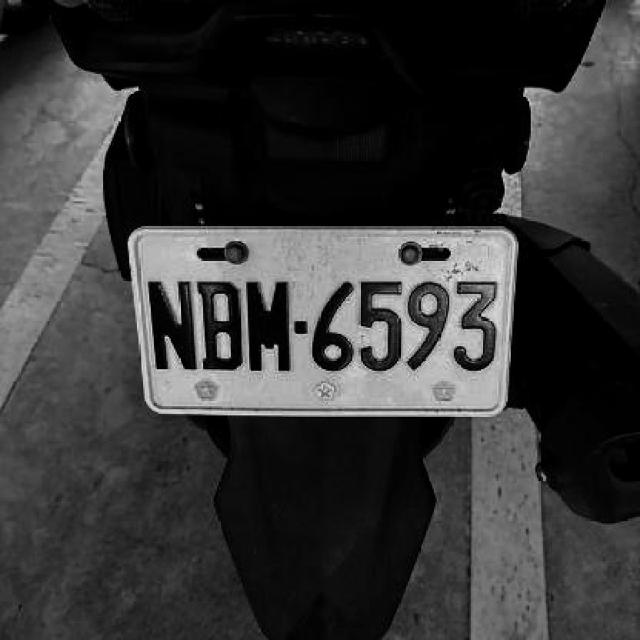-: (292, 318, 306, 334)
3: (452, 278, 498, 372)
5: (355, 280, 400, 375)
6: (308, 280, 352, 371)
9: (402, 278, 451, 369)
B: (197, 278, 246, 369)
M: (243, 280, 292, 375)
N: (144, 277, 198, 374)
